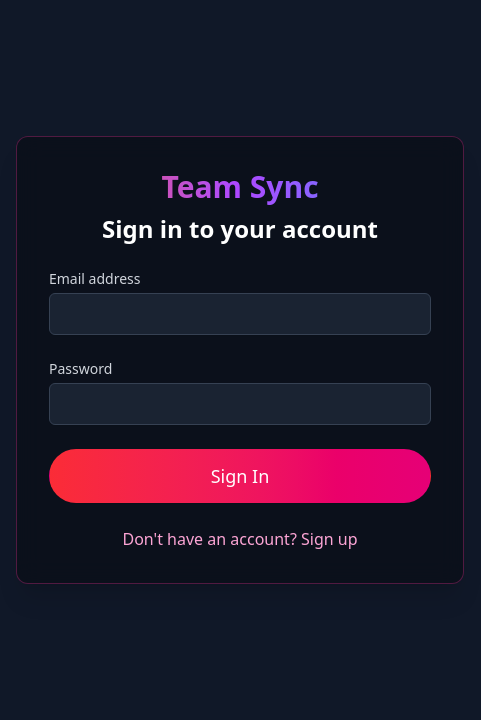
Scenario: Auth validation › shows error when passwords do not match
Click the button "Don't have an account? Sign up": (241,539) [123,527,358,551]
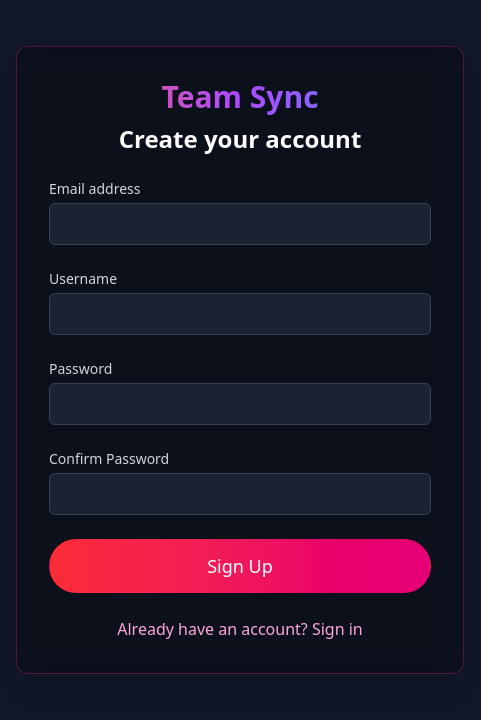
In the field with test id "auth-email": (240,224) [49,203,431,245], type "test@example.com"
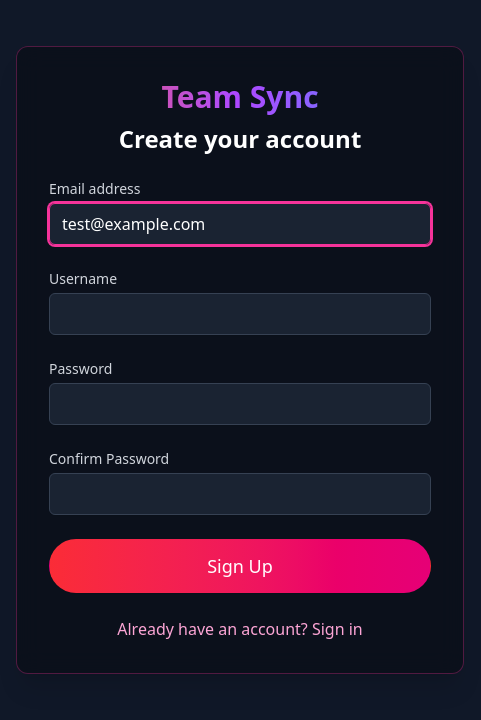
In the field with test id "auth-username": (240,314) [49,293,431,335], type "tester"
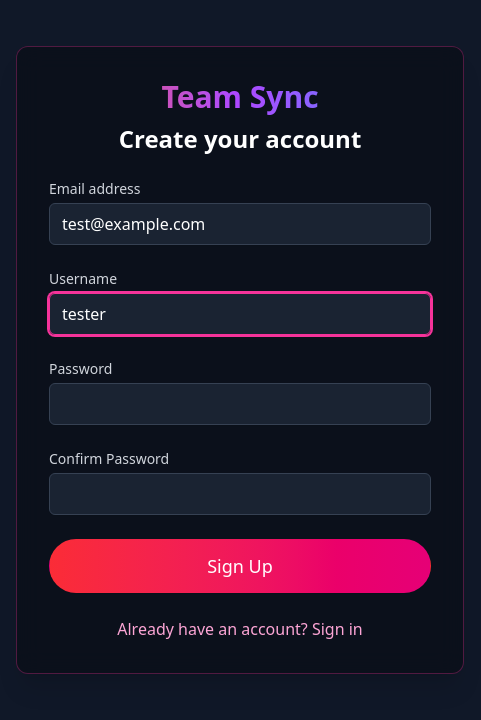
In the password field with test id "auth-password": (240,404) [49,383,431,425], type "secret123"
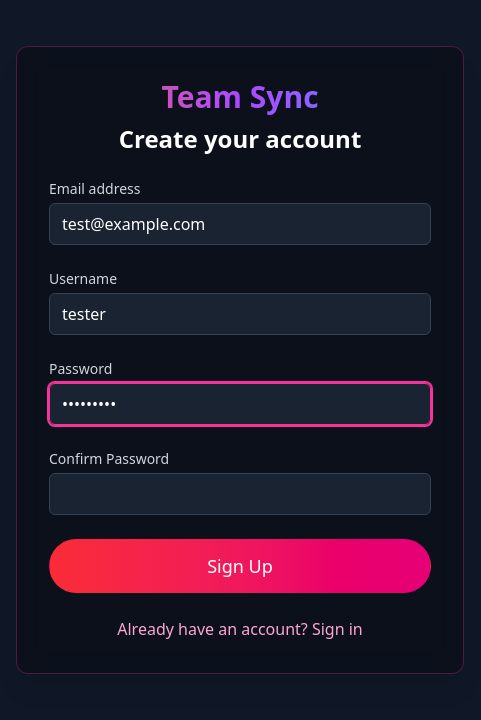
In the password field with test id "auth-confirm-password": (240,494) [49,473,431,515], type "secret321"
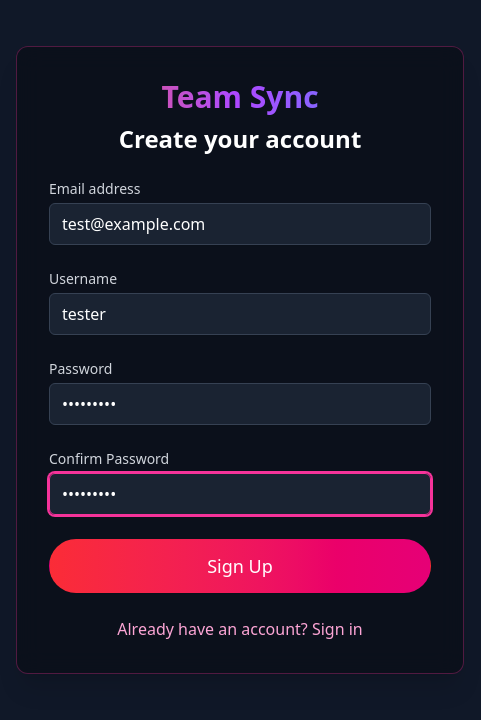
Click the button "Sign Up": (240,566) [49,539,431,593]
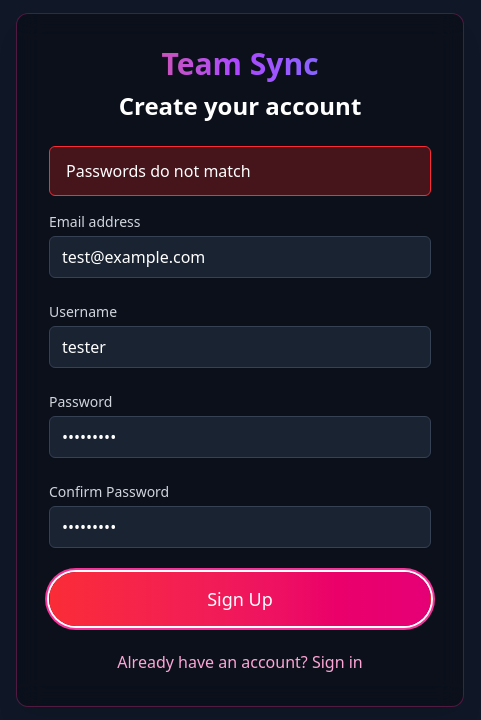
expect the text "Passwords do not match" is shown: met, box [49,146,431,196]
